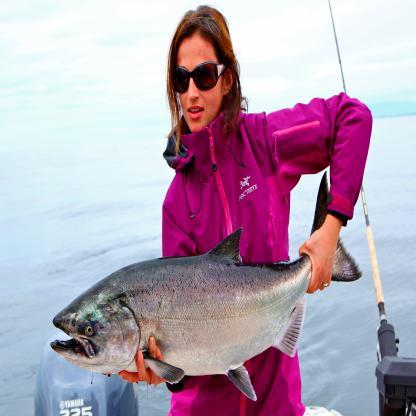fish: (50, 170, 364, 402)
